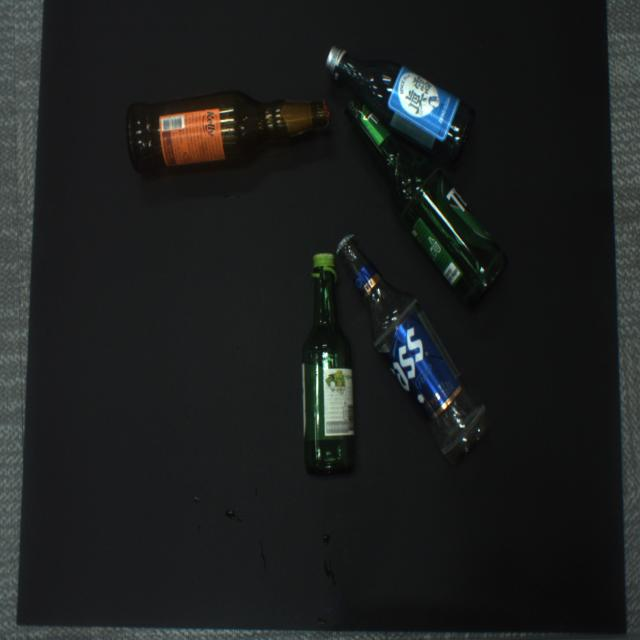beer-bottle: (336, 236, 491, 464), (345, 97, 506, 303), (126, 93, 328, 172)
soju-bottle: (326, 47, 474, 163), (301, 253, 355, 474)
